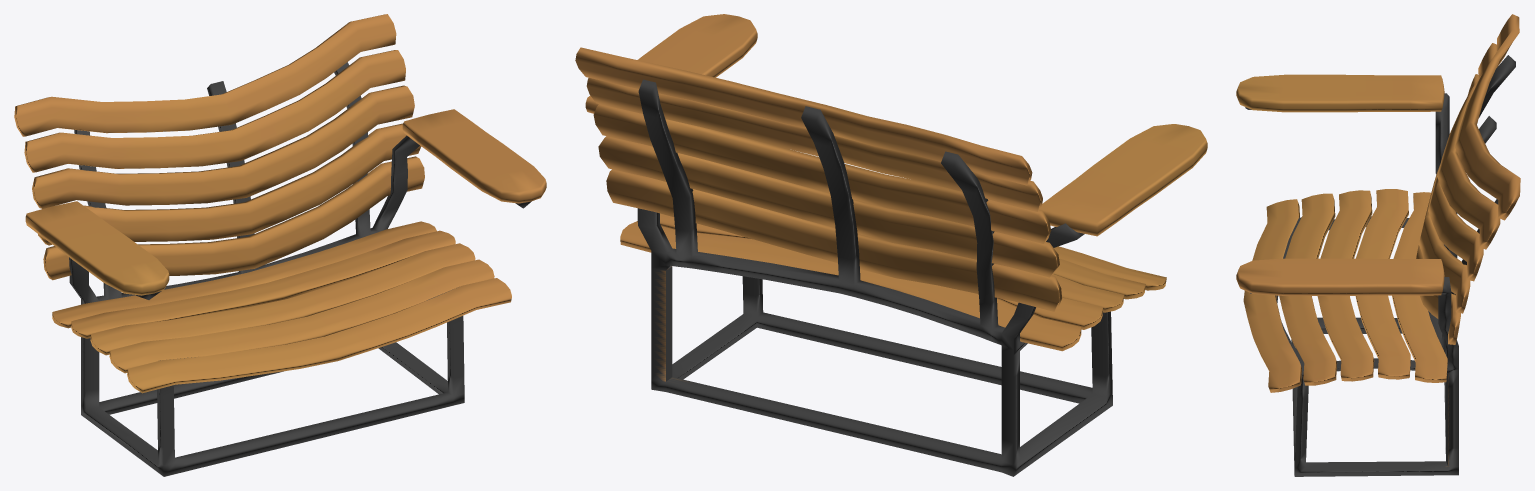
Rendered from Park benc.fbx.
The picture shows the model from 3 angles, left to right: view 1: azimuth 30°, elevation 25°; view 2: azimuth 150°, elevation 25°; view 3: azimuth 270°, elevation 25°; orthographic projection. The views are drawn at different scales.
Parts seen in each view (by area): view 1: park bench; view 2: park bench; view 3: park bench.
Boxes of the visible parts, bbox=[...] form: park bench: bbox=[14, 14, 546, 476]; park bench: bbox=[575, 14, 1207, 476]; park bench: bbox=[1236, 14, 1520, 476].
Bounding box in the file's own units: 9133 × 6107 × 5229.
Materials: 2 (2 with a texture image).
